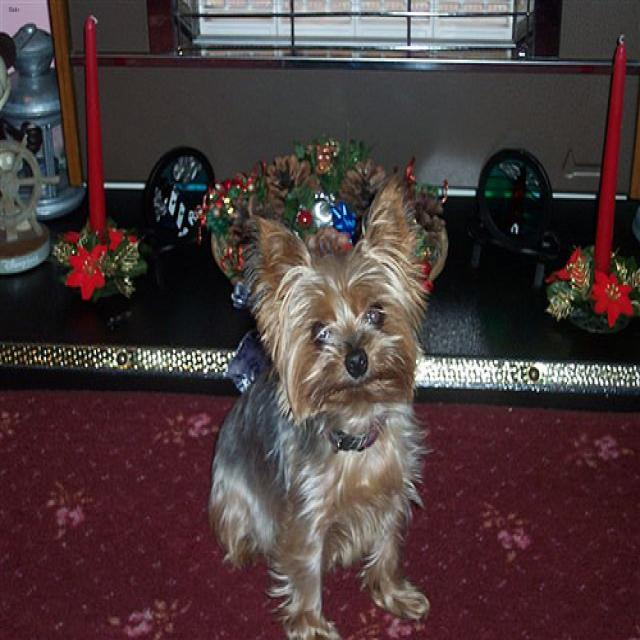dog-yorkshire_terrier: (200, 160, 438, 637)
